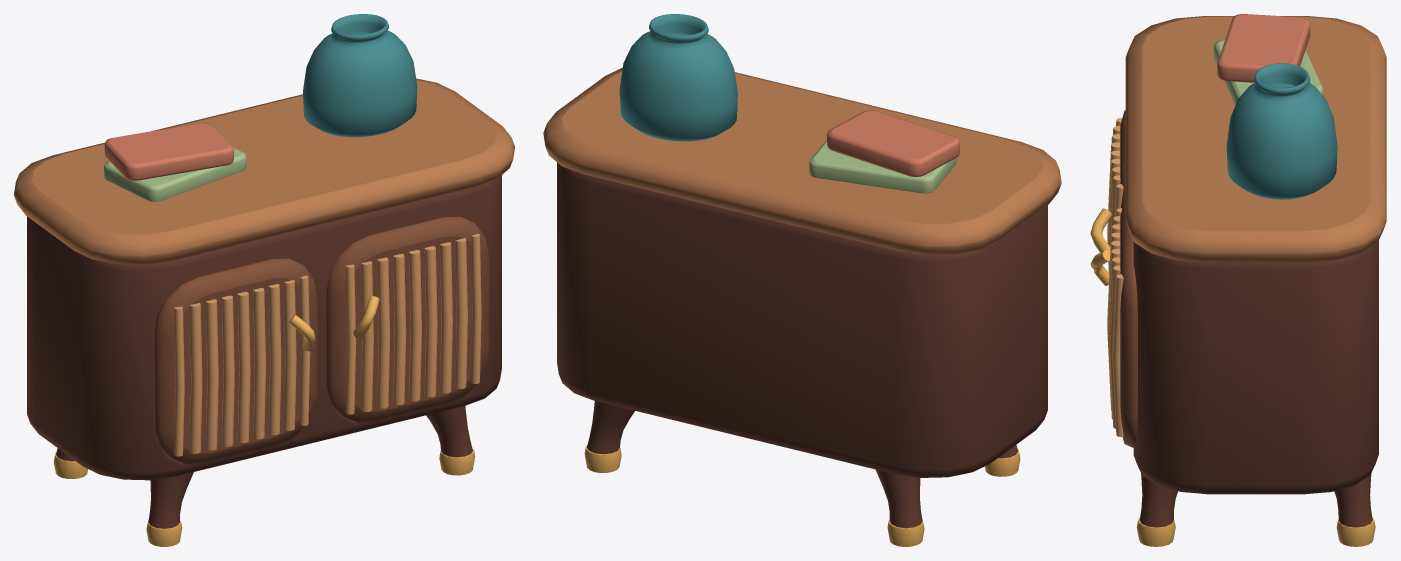
The model's file is atelier_cabinet.glb.
The picture shows the model from 3 angles, left to right: view 1: azimuth 30°, elevation 25°; view 2: azimuth 150°, elevation 25°; view 3: azimuth 270°, elevation 25°; orthographic projection. The views are drawn at different scales.
Parts seen in each view (by area): view 1: Aparador acanalado; view 2: Aparador acanalado; view 3: Aparador acanalado.
Part boxes in pixels (box(x1,y1,x2,y2)): Aparador acanalado: box(14, 14, 514, 546); Aparador acanalado: box(543, 14, 1061, 546); Aparador acanalado: box(1090, 14, 1386, 546).
Size of the model in its own units: 1.19 by 1.08 by 0.652.
